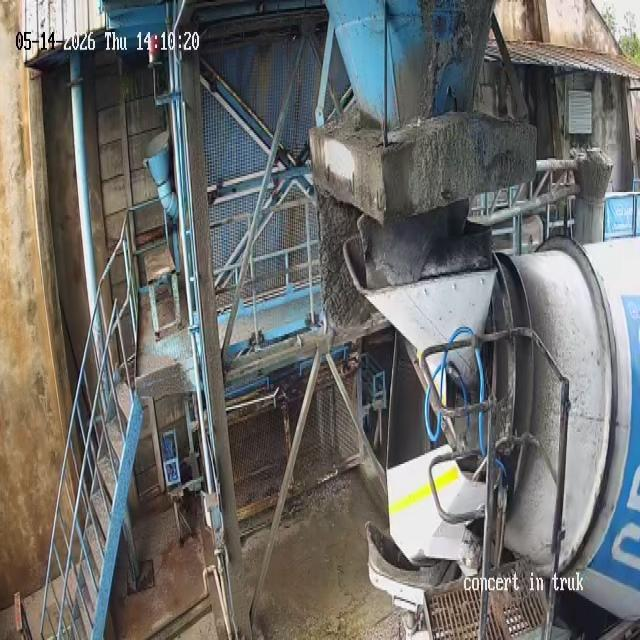cement_mixer_truck: (338, 235, 640, 640)
